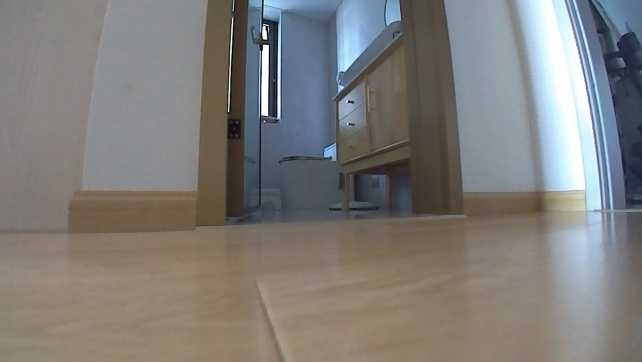toilet: (275, 141, 356, 208)
